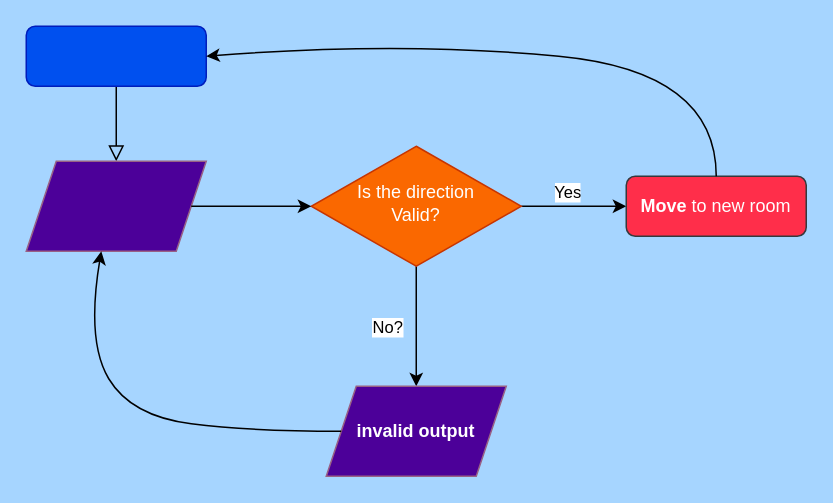
Image size: 833x503. Some labels were removed from this diagram. The shapes that lost their labels are listed below. From the top down, each one's box as (x1, y1, x2, y2) in pixels, then its label:
(25, 25, 206, 86): Start /Current Location
(25, 160, 206, 251): Input to move direction
